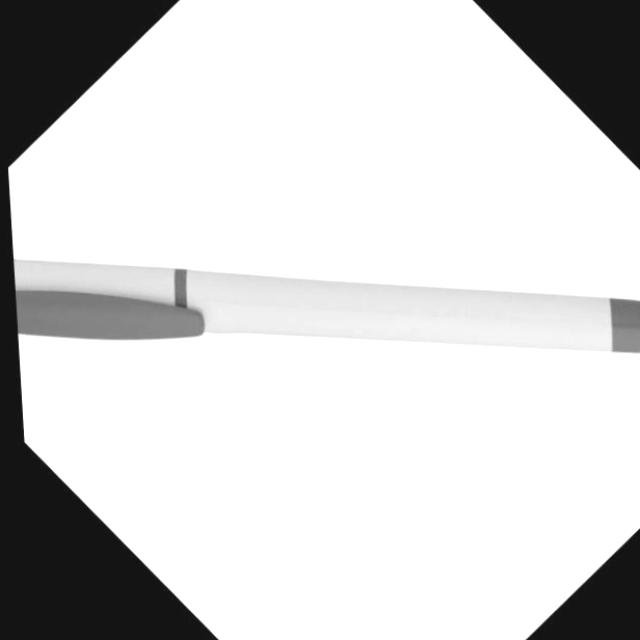pencil: (6, 244, 640, 399)
